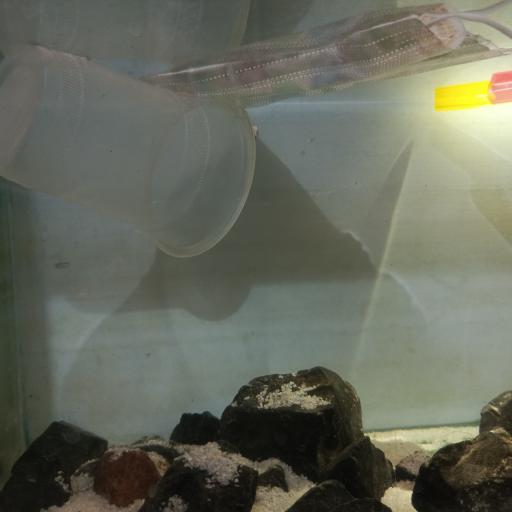mask: (138, 3, 512, 109)
plastic_cup: (0, 44, 258, 260)
plastic_straw: (433, 81, 512, 110), (489, 70, 512, 105)
